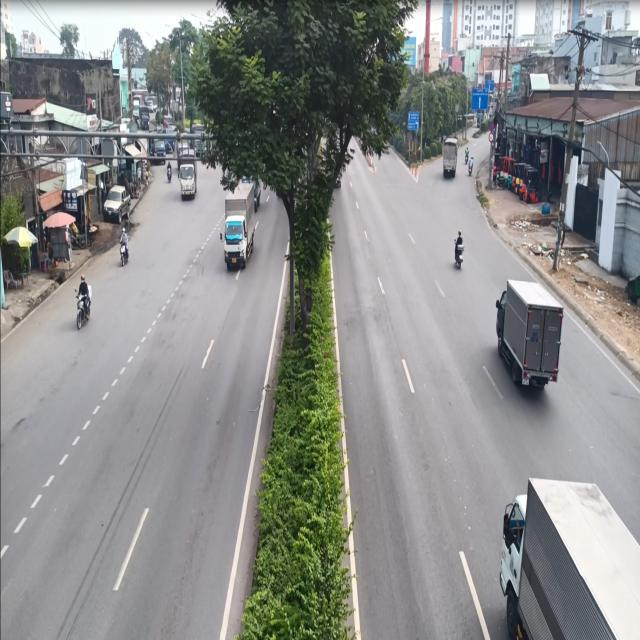motor: (73, 264, 96, 338), (449, 223, 468, 283), (116, 219, 131, 268)
truck: (495, 473, 640, 640), (489, 268, 566, 402), (219, 176, 258, 278)
